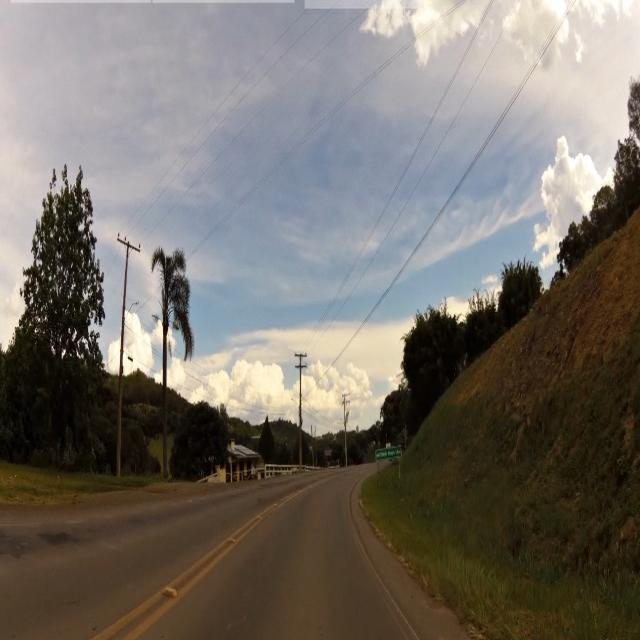I-4: (374, 444, 408, 464)
